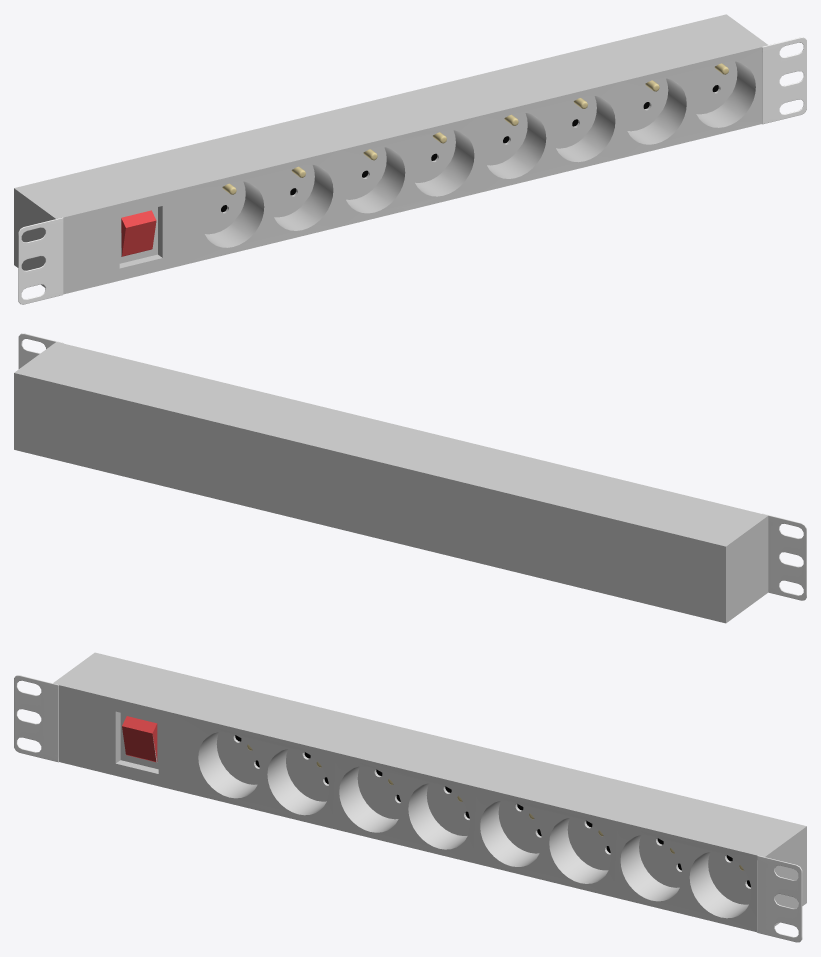
The model's file is pdu 1.fbx.
3 views of the same model, one above another, from view 1: azimuth 30°, elevation 25°; view 2: azimuth 150°, elevation 25°; view 3: azimuth 330°, elevation 25° (orthographic).
Visible parts, largest first — view 1: Object_6, Object_4.001, Object_8; view 2: Object_6; view 3: Object_6, Object_4.001.
Part boxes in pixels (x1=…): Object_6: x1=14, y1=14, x2=806, y2=304; Object_4.001: x1=121, y1=210, x2=156, y2=256; Object_8: x1=222, y1=63, x2=728, y2=194; Object_6: x1=14, y1=333, x2=806, y2=623; Object_6: x1=14, y1=652, x2=806, y2=942; Object_4.001: x1=122, y1=716, x2=157, y2=762.
Size of the model in its own units: 483 by 45.28 by 45.51.
